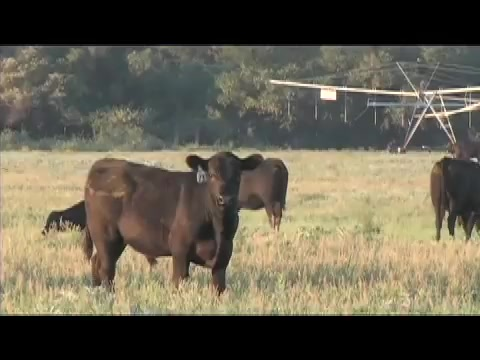cow: (85, 150, 267, 295), (235, 154, 290, 235), (430, 158, 480, 242), (43, 199, 88, 238), (449, 140, 480, 161)
